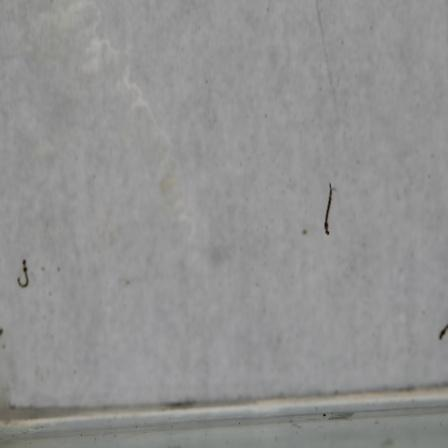Jentik-Nyamuk: (320, 180, 338, 238), (13, 254, 33, 291)
